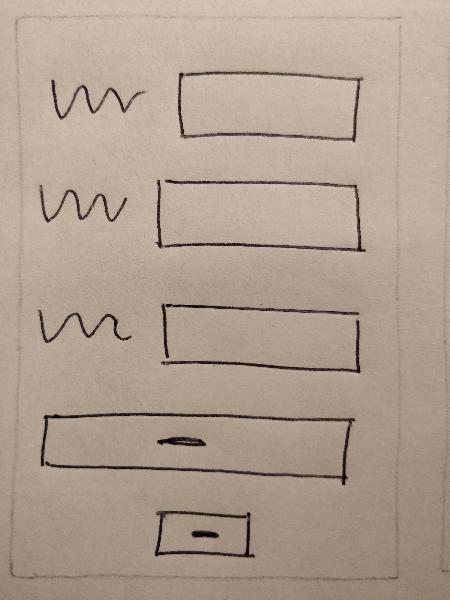button: (32, 406, 365, 495), (145, 506, 270, 568)
text: (43, 68, 154, 132), (34, 299, 136, 356), (33, 175, 130, 232)
text_input: (150, 171, 368, 263), (152, 295, 370, 381), (166, 61, 370, 146)
